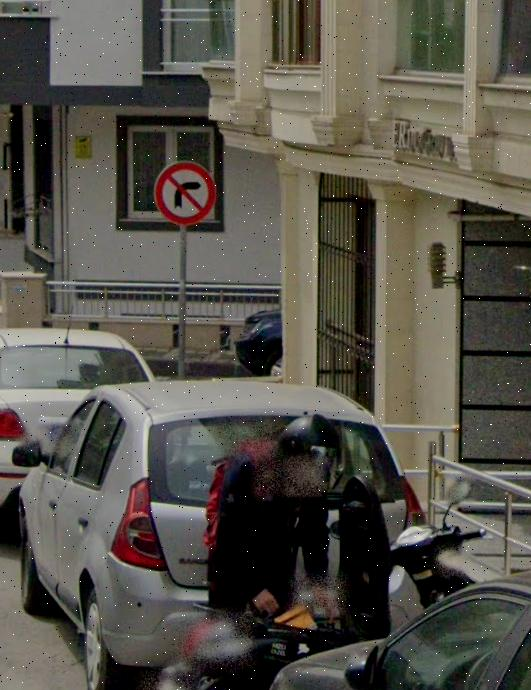rightturnsareforbidden: (153, 161, 218, 225)
